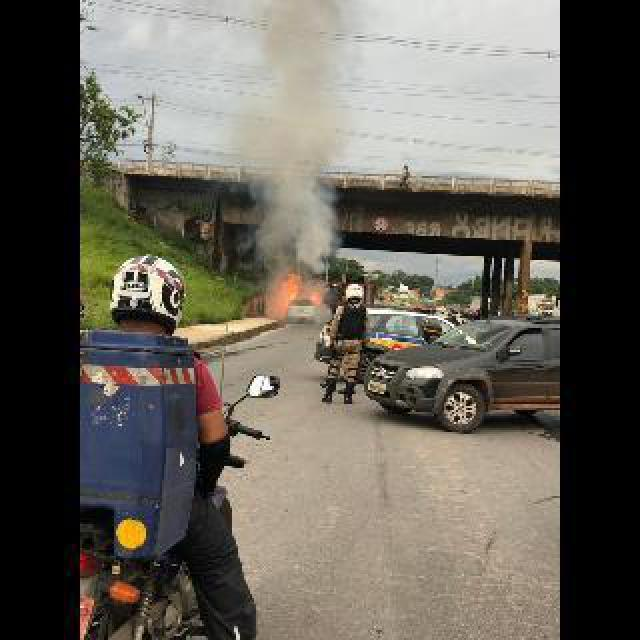Fire: (278, 267, 303, 314)
Smoke: (228, 0, 377, 282)
